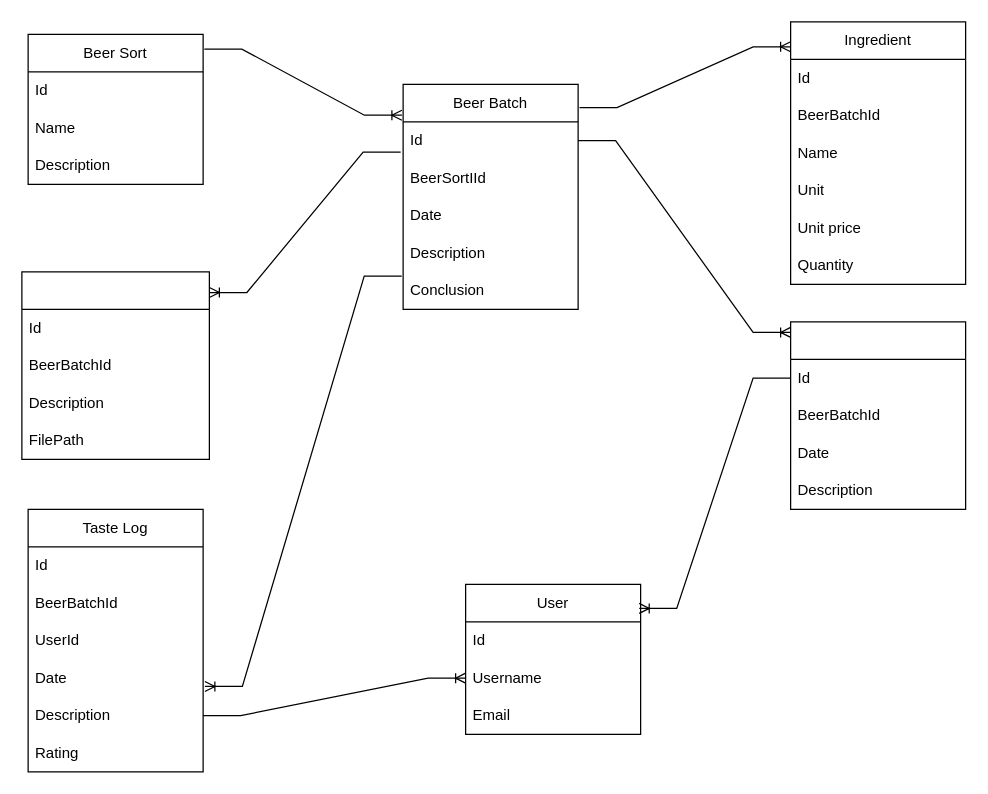
This 988x794 diagram has some shape labels left out. Here are the shapes that lost their labels. From the top down, the box of each, then its label:
(21, 271, 209, 459): Photo
(789, 321, 966, 509): Batch Log
